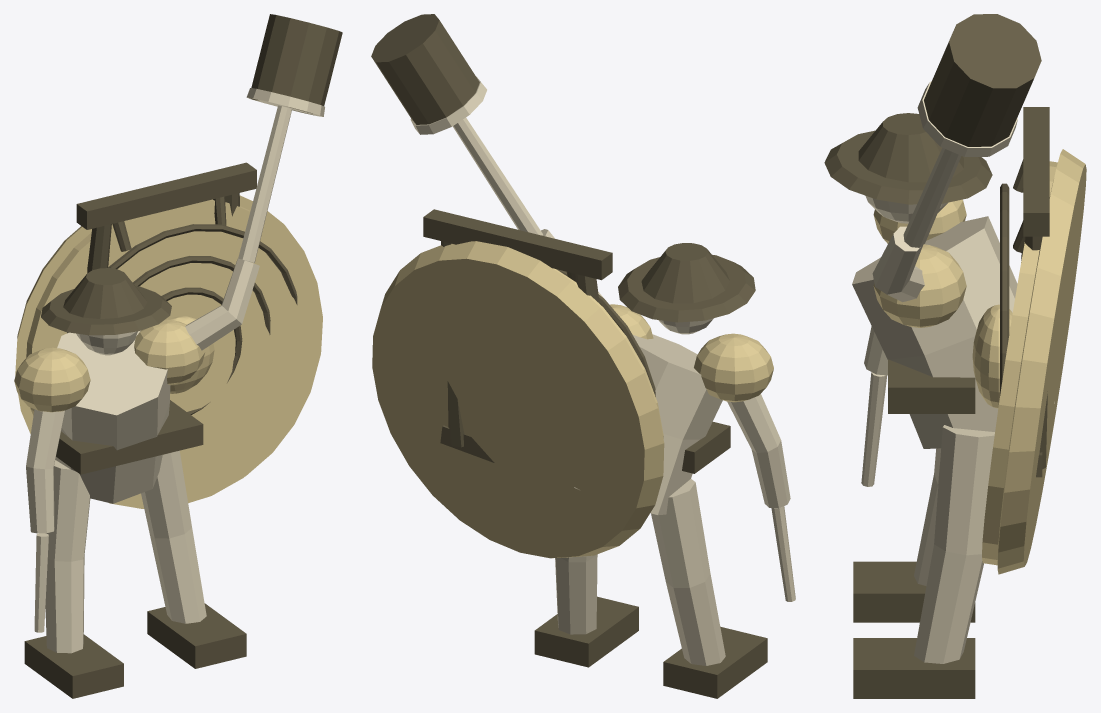
The model's file is drillmaster.glb.
The picture shows the model from 3 angles, left to right: view 1: azimuth 30°, elevation 25°; view 2: azimuth 150°, elevation 25°; view 3: azimuth 270°, elevation 25°; orthographic projection. The views are drawn at different scales.
Parts seen in each view (by area): view 1: drillmaster_body, drillmaster_bone, drillmaster_dark; view 2: drillmaster_body, drillmaster_dark, drillmaster_bone; view 3: drillmaster_dark, drillmaster_bone, drillmaster_body.
Boxes of the visible parts, bbox=[...] form: drillmaster_body: bbox=[14, 195, 322, 508]; drillmaster_bone: bbox=[26, 88, 324, 653]; drillmaster_dark: bbox=[24, 14, 342, 698]; drillmaster_body: bbox=[372, 241, 773, 558]; drillmaster_dark: bbox=[371, 14, 767, 698]; drillmaster_bone: bbox=[410, 76, 795, 665]; drillmaster_dark: bbox=[824, 14, 1049, 698]; drillmaster_bone: bbox=[852, 81, 1054, 663]; drillmaster_body: bbox=[873, 149, 1086, 574].
Bounding box in the file's own units: 1.39 × 2.2 × 0.7051.
